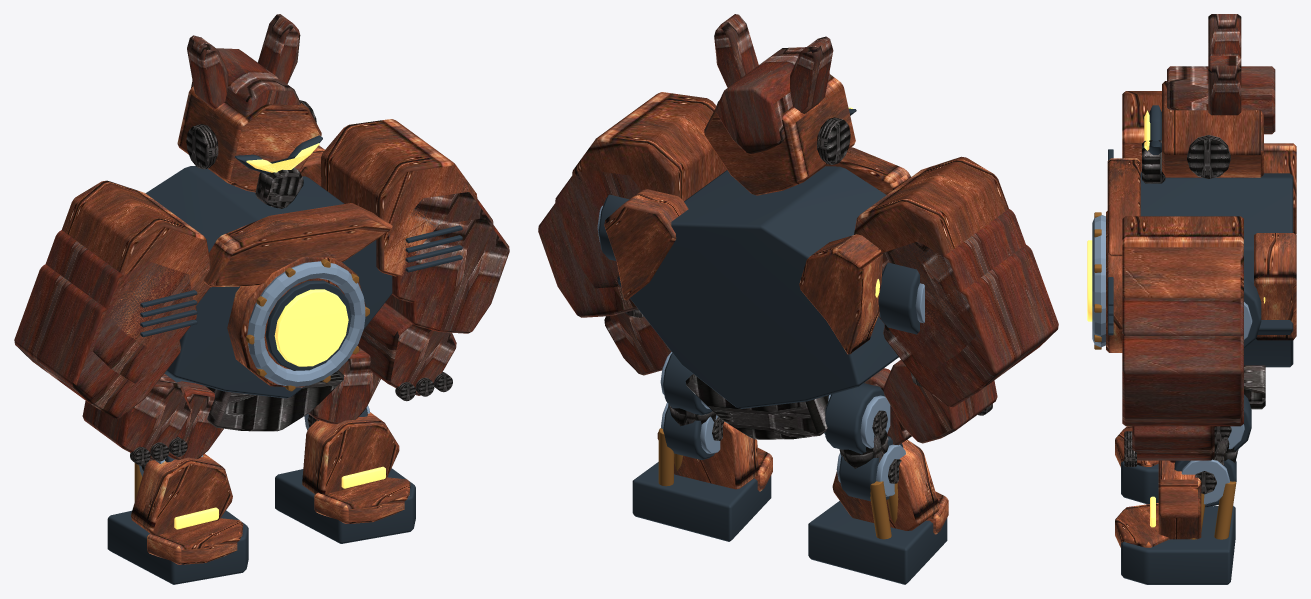
The model's file is heavy.glb.
The picture shows the model from 3 angles, left to right: view 1: azimuth 30°, elevation 25°; view 2: azimuth 150°, elevation 25°; view 3: azimuth 270°, elevation 25°; orthographic projection. The views are drawn at different scales.
Visible parts, largest first — view 1: Navy crown, Upper chest plating, Reinforced heavy torso, Greave armor, Face guard, Greave armor.001, Reactor concentric ring, Reactor lens, Servo housing.001, Servo housing.004, Tapered thigh shield.001, Tapered thigh shield; view 2: Navy crown, Reinforced heavy torso, Upper chest plating, Servo housing.001, Servo housing.004, Face guard, Greave armor, Greave armor.001, Bearing ring.002, Hub.002, Calf piston, Calf piston.002 (+3 smaller); view 3: Upper chest plating, Navy crown, Reinforced heavy torso, Servo housing.004, Greave armor.001, Face guard, Reactor concentric ring, Servo housing.001, Bearing ring.008, Hub.008, Calf piston.002, Reactor lens (+2 smaller).
Boxes of the visible parts, x1,y1,x2,y2 form: Navy crown: [14, 14, 509, 460]; Upper chest plating: [62, 86, 477, 387]; Reinforced heavy torso: [140, 135, 462, 398]; Greave armor: [131, 453, 243, 564]; Face guard: [130, 100, 452, 465]; Greave armor.001: [302, 412, 410, 523]; Reactor concentric ring: [247, 261, 365, 386]; Reactor lens: [246, 143, 348, 366]; Servo housing.001: [107, 371, 248, 584]; Servo housing.004: [275, 408, 415, 543]; Tapered thigh shield.001: [308, 347, 380, 424]; Tapered thigh shield: [168, 381, 223, 459]; Navy crown: [538, 14, 1058, 443]; Reinforced heavy torso: [598, 108, 919, 408]; Upper chest plating: [572, 74, 1008, 354]; Servo housing.001: [808, 383, 947, 584]; Servo housing.004: [632, 353, 771, 541]; Face guard: [624, 100, 992, 439]; Greave armor: [832, 439, 948, 534]; Greave armor.001: [657, 422, 772, 491]; Bearing ring.002: [824, 394, 905, 496]; Hub.002: [839, 410, 901, 483]; Calf piston: [870, 481, 898, 539]; Calf piston.002: [658, 428, 682, 486]; Upper chest plating: [1106, 81, 1296, 352]; Navy crown: [1122, 14, 1275, 460]; Reinforced heavy torso: [1108, 105, 1293, 367]; Servo housing.004: [1121, 394, 1251, 584]; Greave armor.001: [1115, 460, 1201, 547]; Face guard: [1124, 135, 1265, 466]; Reactor concentric ring: [1092, 215, 1252, 347]; Servo housing.001: [1121, 461, 1158, 504]; Bearing ring.008: [1181, 424, 1244, 504]; Hub.008: [1195, 426, 1238, 494]; Calf piston.002: [1190, 481, 1236, 539]; Reactor lens: [1087, 110, 1150, 321].
Size of the model in its own units: 1.52 by 1.64 by 0.637.
8 materials, 3 textured.
